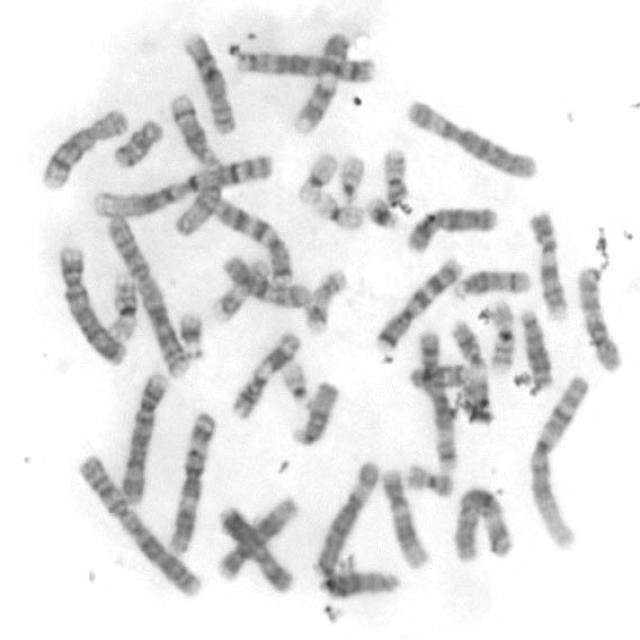A1: (89, 151, 274, 220), (523, 372, 591, 554)
A2: (73, 450, 204, 600), (103, 210, 188, 377)
A3: (164, 407, 218, 553), (452, 486, 514, 563)
B4: (55, 240, 130, 366), (116, 368, 169, 504)
B5: (414, 326, 460, 474), (231, 46, 376, 84)
C10: (572, 262, 624, 372), (219, 252, 312, 310)
C11: (226, 328, 302, 422), (445, 317, 492, 413)
C12: (213, 491, 300, 587), (378, 463, 430, 570)
C6: (402, 94, 540, 181), (310, 456, 382, 576)
C7: (371, 253, 463, 353), (206, 194, 294, 287)
C8: (36, 104, 131, 192), (180, 28, 238, 137)
C9: (286, 28, 353, 137), (526, 206, 569, 324)
D13: (515, 304, 554, 389), (317, 566, 400, 598)
D14: (167, 89, 220, 171), (450, 264, 533, 300)
D15: (172, 162, 225, 240), (286, 376, 340, 448)
E16: (104, 271, 142, 343), (486, 294, 517, 372)
E17: (208, 254, 272, 324), (301, 262, 348, 336)
E18: (108, 115, 165, 170), (406, 358, 471, 391)
F19: (293, 148, 339, 205), (310, 188, 368, 233)
F20: (402, 459, 457, 500), (380, 146, 411, 208)
G21: (176, 306, 206, 358), (363, 193, 400, 231)
G22: (338, 152, 368, 205), (278, 358, 311, 405)
X: (214, 498, 296, 595), (402, 202, 499, 255)
